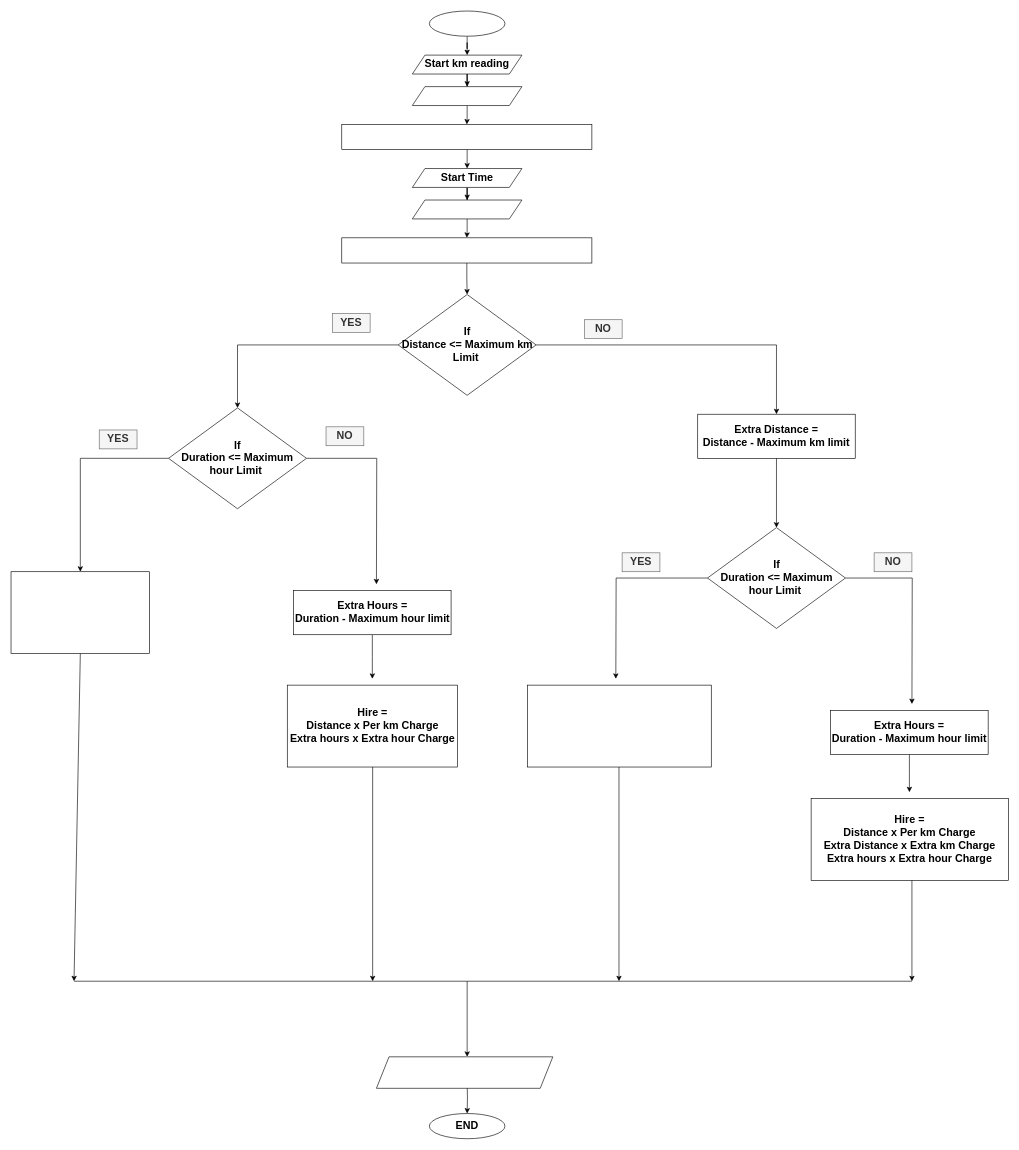
The diagram is 1019 pixels wide and 1150 high, and some of its shapes have lost their labels. The shapes that lost their labels are listed below. From the top down, each one's centre as x and y in pixels, then its label:
point 467,23: START
point 467,96: End km reading
point 466,137: Distance = End km reading - Start km reading
point 467,209: End Time
point 466,250: Duration = End Time - Start Time
point 80,612: Hire = Distance x Per km Charge
point 619,725: Hire = Distance x Per km Charge Extra Distance x Extra km Charge
point 464,1072: Print Rent Total
